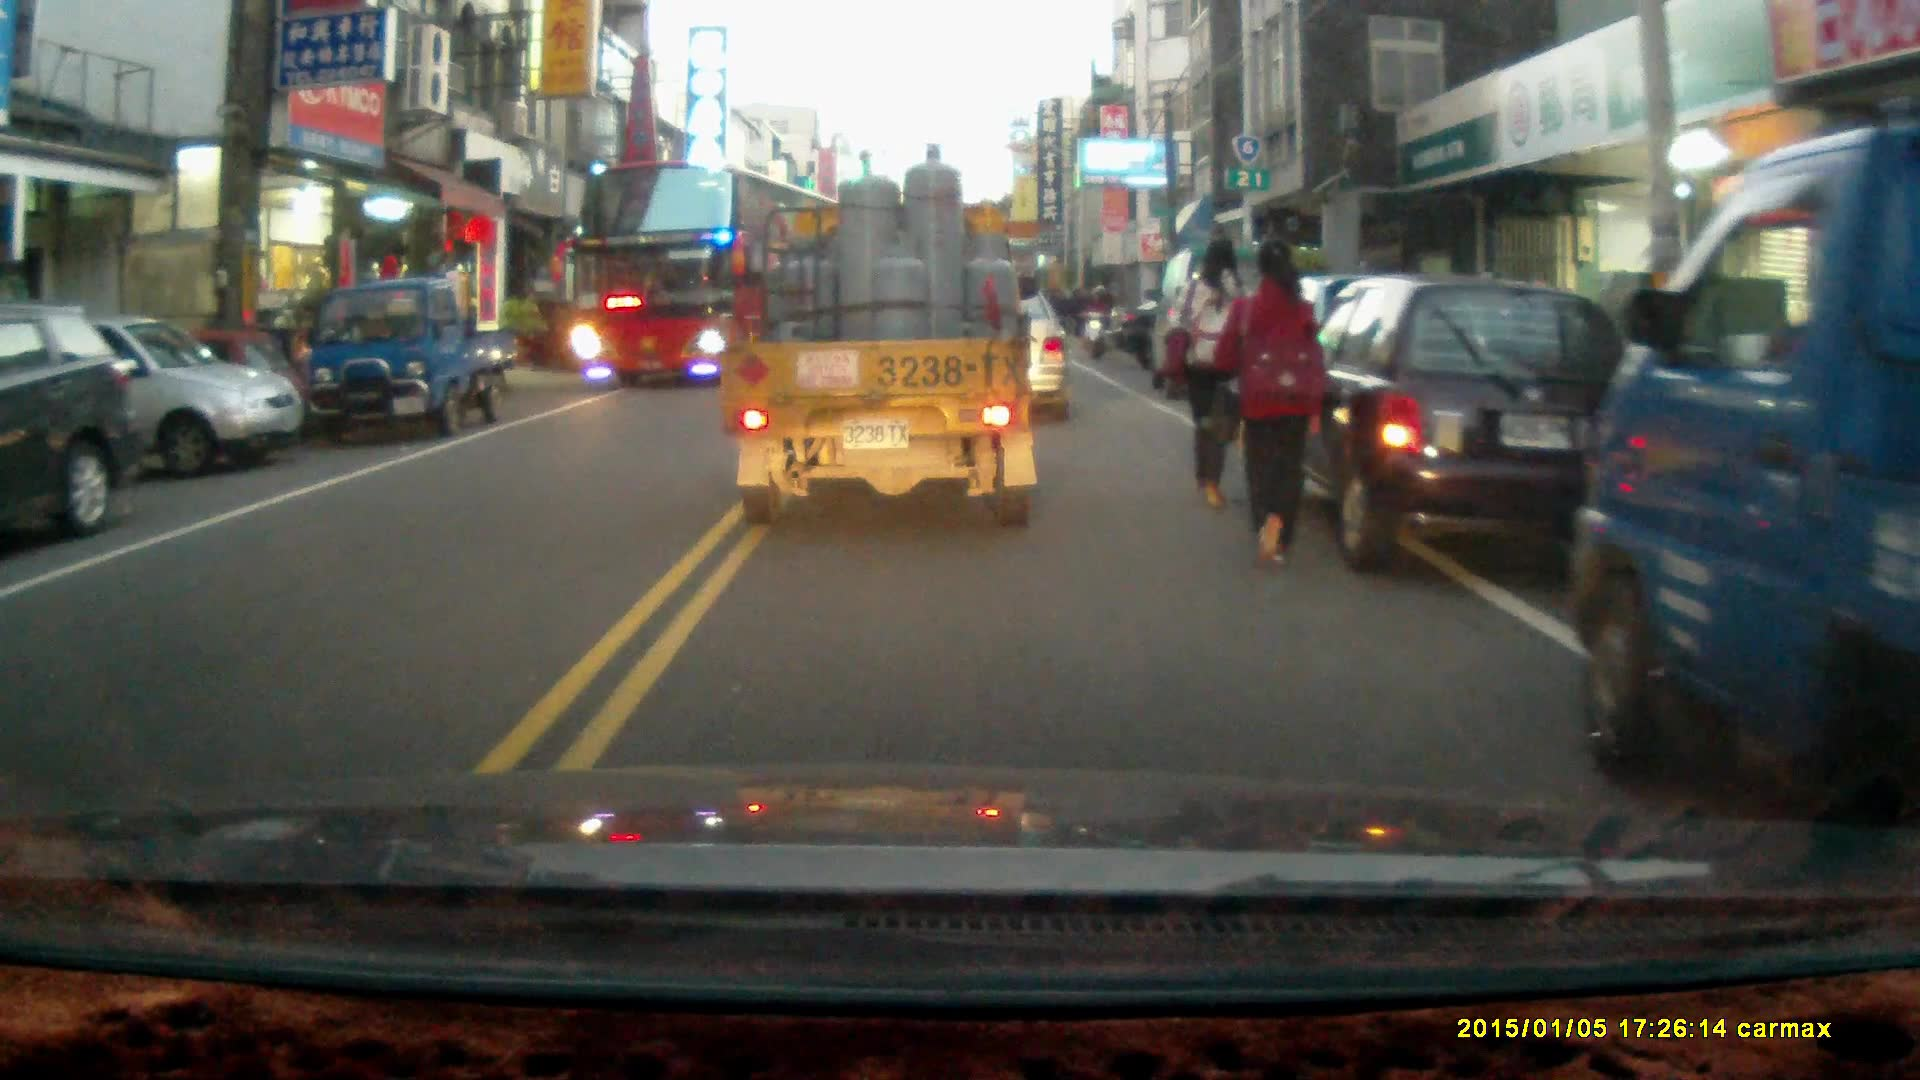pedestrian: (1213, 233, 1328, 569), (1168, 233, 1263, 509)
rider: (1078, 281, 1115, 359)
vehicle: (726, 140, 1047, 532), (1271, 276, 1655, 576), (573, 154, 849, 390), (1, 307, 310, 480), (1, 302, 149, 542), (304, 276, 520, 432)
